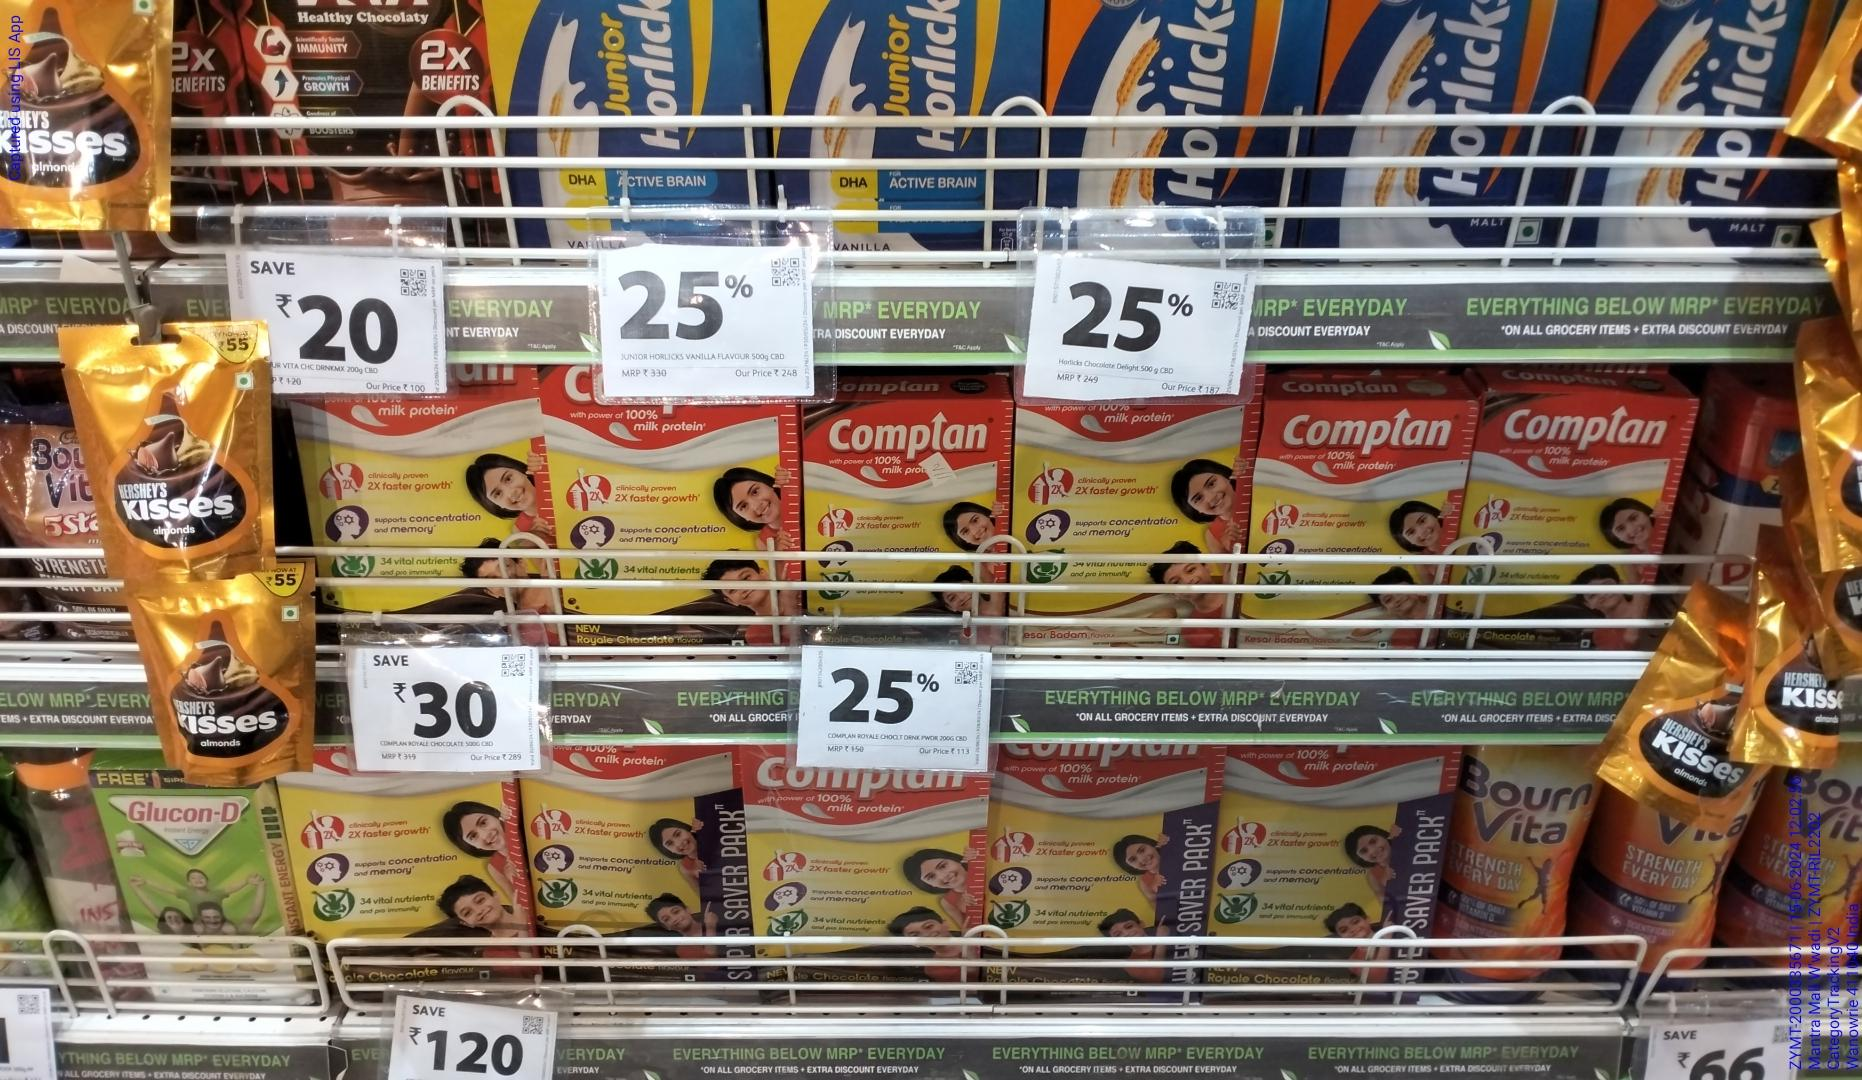BOURN_VITA_1_KG_JAR: (1433, 742, 1570, 1005)
COMPLAN_CHOCOLATE_1_KG_PACK: (1214, 743, 1421, 1009), (748, 765, 979, 1003), (992, 746, 1204, 1004), (529, 743, 738, 989), (301, 773, 517, 993)
COMPLAN_CHOCOLATE_500_GMS_PACK: (560, 404, 799, 660), (317, 393, 544, 640), (1462, 390, 1655, 648), (806, 405, 1007, 642)
COMPLAN_KESAR_BADAM_500_GMS_PACK: (1019, 400, 1235, 658), (1255, 399, 1451, 660)
